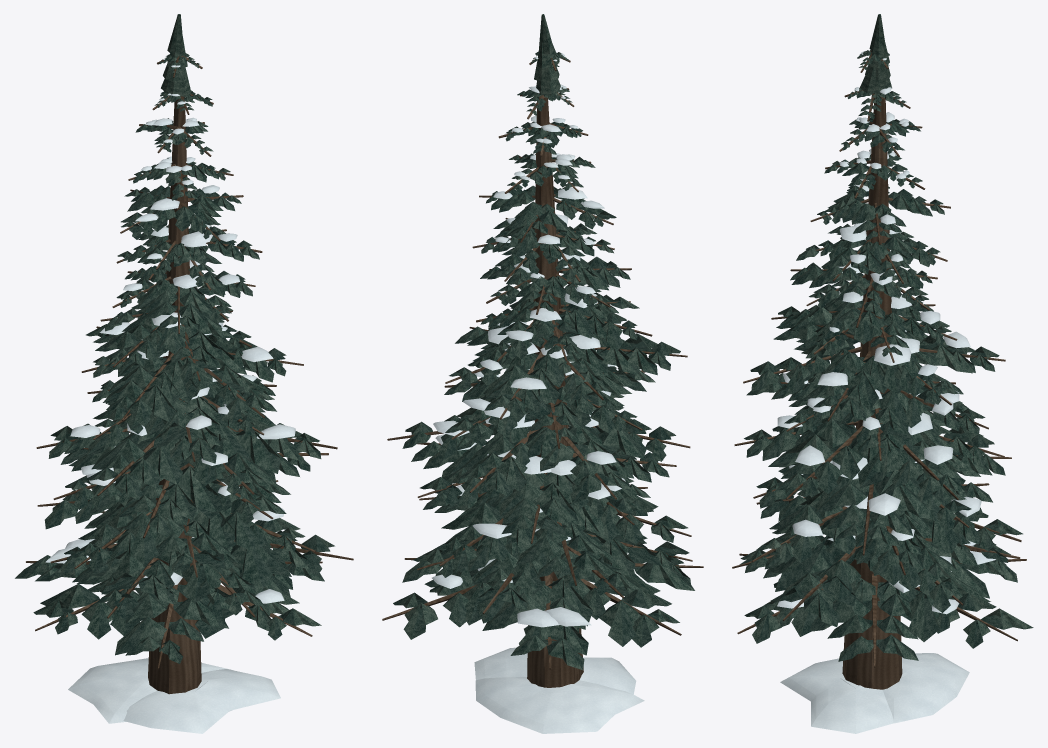
Rendered from 15_Mature_Pine.obj.
The picture shows the model from 3 angles, left to right: view 1: azimuth 30°, elevation 25°; view 2: azimuth 150°, elevation 25°; view 3: azimuth 270°, elevation 25°; orthographic projection.
Visible parts, largest first — view 1: 15_Mature_Pine; view 2: 15_Mature_Pine; view 3: 15_Mature_Pine.
Part boxes in pixels (<box>): 15_Mature_Pine: <box>15,14,353,733</box>; 15_Mature_Pine: <box>382,14,703,733</box>; 15_Mature_Pine: <box>732,14,1033,733</box>.
Size of the model in its own units: 2.33 by 5.36 by 2.14.
4 materials, 4 textured.
